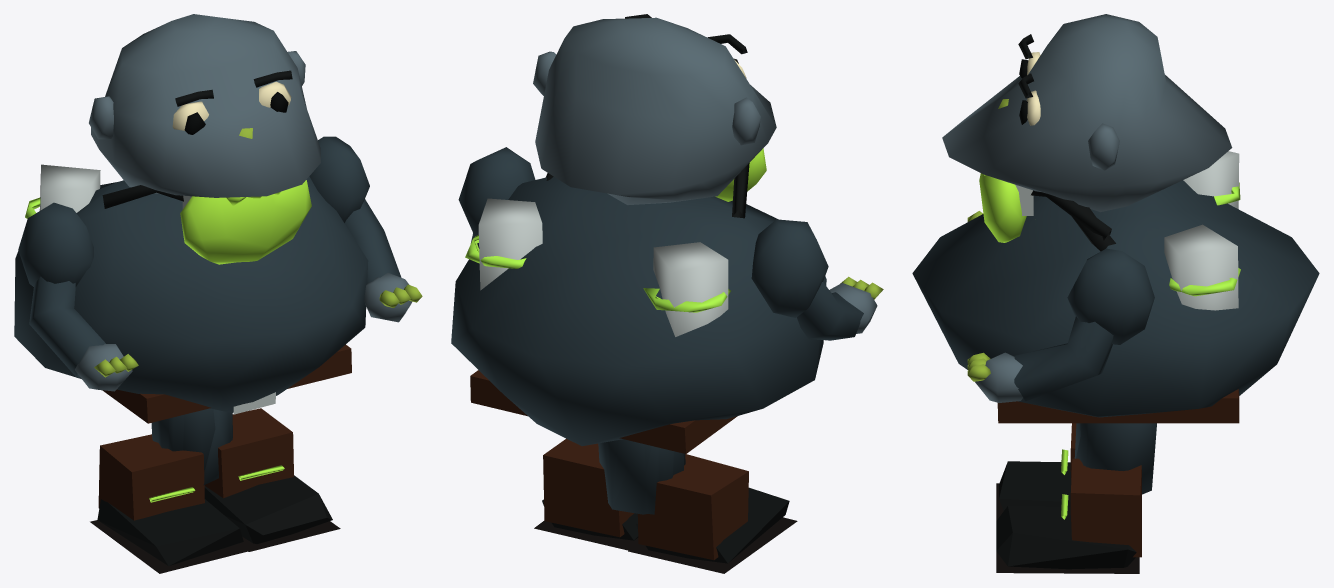
File: spitking-lod.glb
3 views of the same model, side by side, from view 1: azimuth 30°, elevation 25°; view 2: azimuth 150°, elevation 25°; view 3: azimuth 270°, elevation 25° (orthographic). The views are drawn at different scales.
Visible parts, largest first — view 1: Body, Head, Arms, LegL, LegR; view 2: Body, Head, LegL, Arms, LegR; view 3: Body, Head, LegR, Arms, LegL.
Part boxes in pixels (<box>): Body: <box>14,164,368,423</box>; Head: <box>89,14,320,264</box>; Arms: <box>18,136,422,391</box>; LegL: <box>90,409,250,573</box>; LegR: <box>157,408,340,551</box>; Body: <box>451,173,826,453</box>; Head: <box>533,14,776,218</box>; LegL: <box>598,440,797,573</box>; Arms: <box>458,147,883,340</box>; LegR: <box>534,438,683,550</box>; Body: <box>912,151,1319,423</box>; Head: <box>942,14,1232,242</box>; LegR: <box>996,423,1152,573</box>; Arms: <box>967,211,1154,402</box>; LegL: <box>996,423,1156,520</box>.
Size of the model in its own units: 0.8611 by 1.16 by 0.8493.
Materials: 1 (1 with a texture image).
